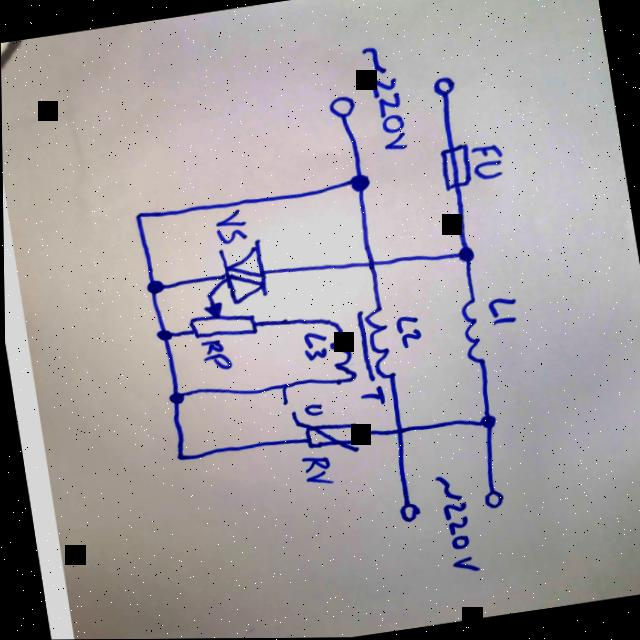crossover: (361, 255, 382, 271), (389, 423, 409, 439)
inductor: (455, 296, 491, 366)
junction: (346, 172, 372, 193), (142, 275, 168, 296), (475, 412, 500, 431), (453, 245, 477, 264), (152, 324, 176, 343), (165, 387, 189, 406), (128, 207, 149, 222), (169, 448, 189, 463)
resistor: (186, 297, 257, 342)
terminal: (327, 93, 359, 123), (430, 75, 460, 106), (395, 500, 423, 525), (480, 487, 506, 510)
text: (431, 471, 481, 576), (363, 43, 410, 152), (468, 143, 507, 182), (212, 207, 249, 245), (199, 336, 234, 372), (298, 454, 334, 486), (485, 295, 519, 327), (394, 314, 424, 350), (299, 329, 328, 362), (360, 384, 386, 406)
transformer: (322, 302, 399, 388)
